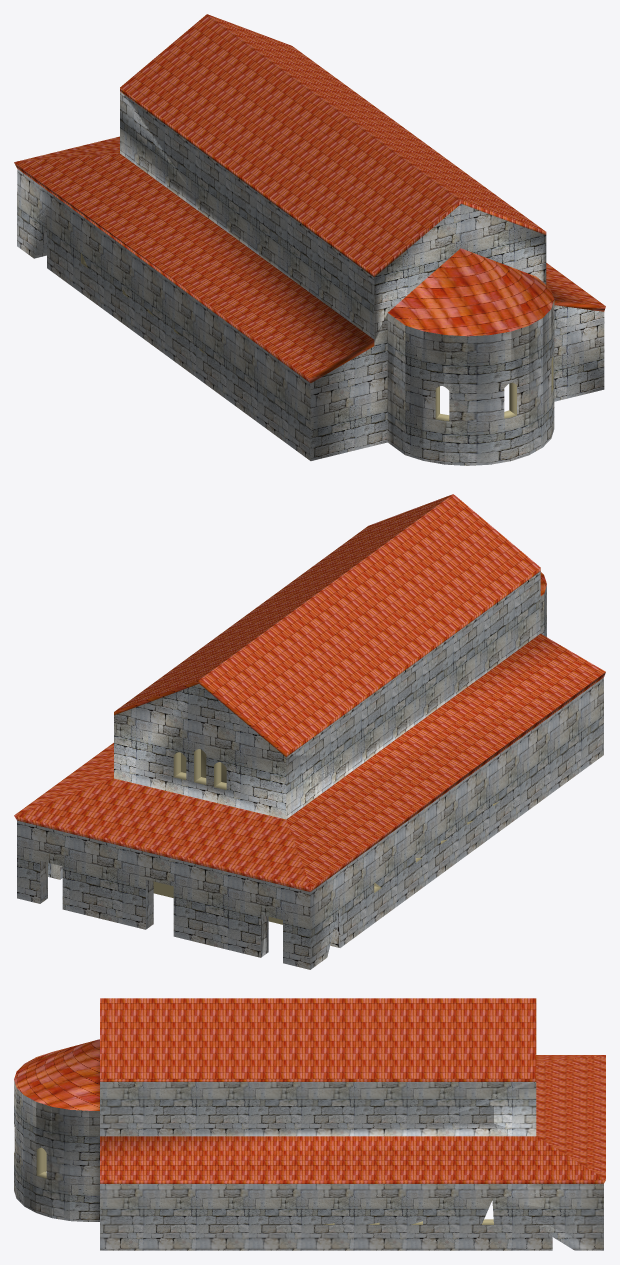
File: WallsAll.fbx
3 views of the same model, one above another, from view 1: azimuth 30°, elevation 25°; view 2: azimuth 150°, elevation 25°; view 3: azimuth 270°, elevation 25° (orthographic). The views are drawn at different scales.
Visible parts, largest first — view 1: WallsSide; view 2: WallsSide; view 3: WallsSide.
Part boxes in pixels (<box>): WallsSide: <box>14,14,605,465</box>; WallsSide: <box>14,494,605,969</box>; WallsSide: <box>14,998,605,1250</box>.
Bounding box in the file's own units: 1786 × 1288 × 3590.
